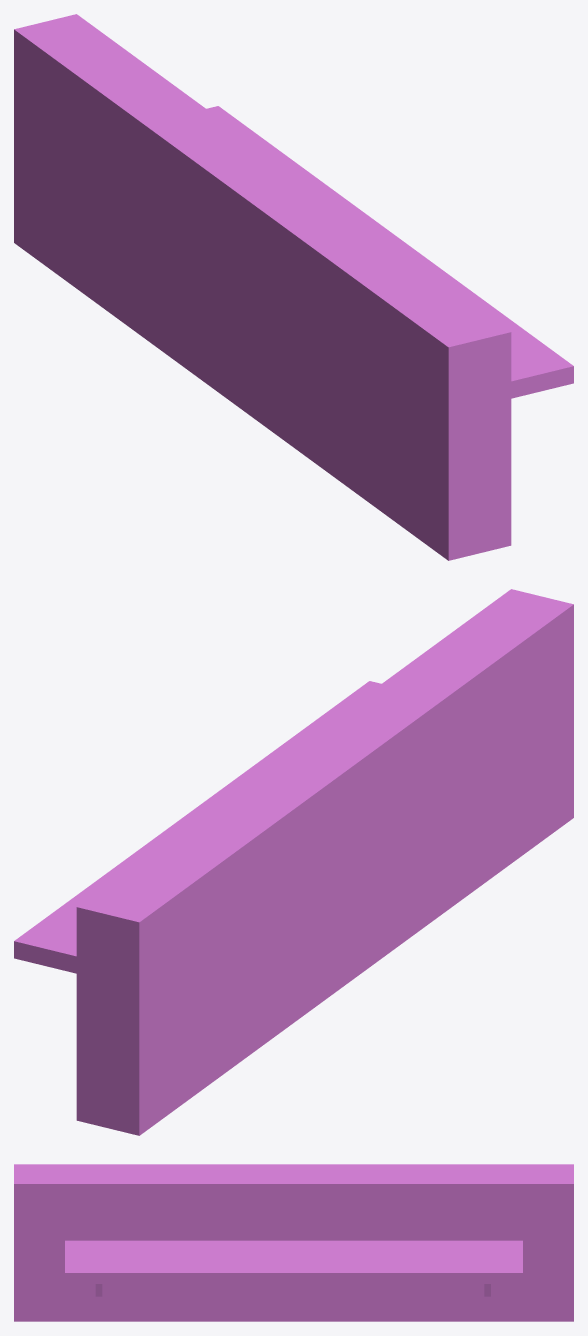
File: small wall sit.fbx
3 renders of one model, top to bottom at view 1: azimuth 30°, elevation 25°; view 2: azimuth 150°, elevation 25°; view 3: azimuth 270°, elevation 25°, orthographic. The views are drawn at different scales.
Visible parts, largest first — view 1: Smallwall1; view 2: Smallwall1; view 3: Smallwall1.
Boxes of the visible parts, left/top/right/bottom form: Smallwall1: left=14, top=14, right=573, bottom=560; Smallwall1: left=14, top=589, right=573, bottom=1135; Smallwall1: left=14, top=1164, right=573, bottom=1321.
Bounding box in the file's own units: 99.36 × 123 × 453.
